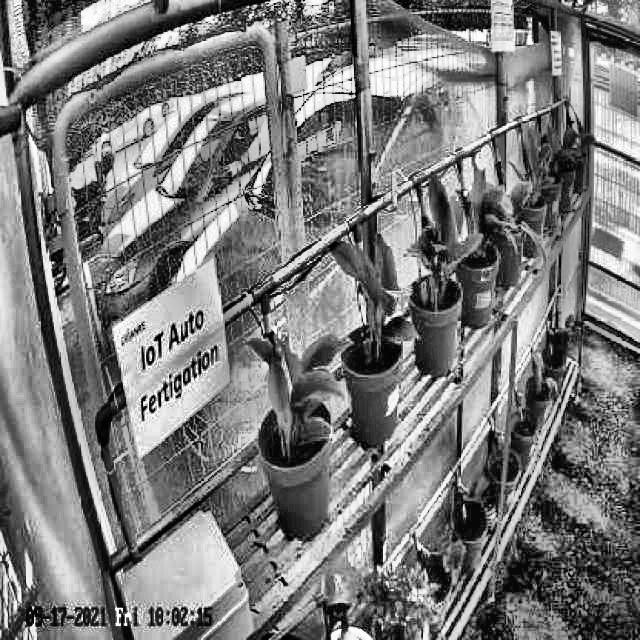plants: (246, 334, 352, 444), (331, 233, 418, 344), (407, 172, 473, 288), (468, 163, 514, 260)
